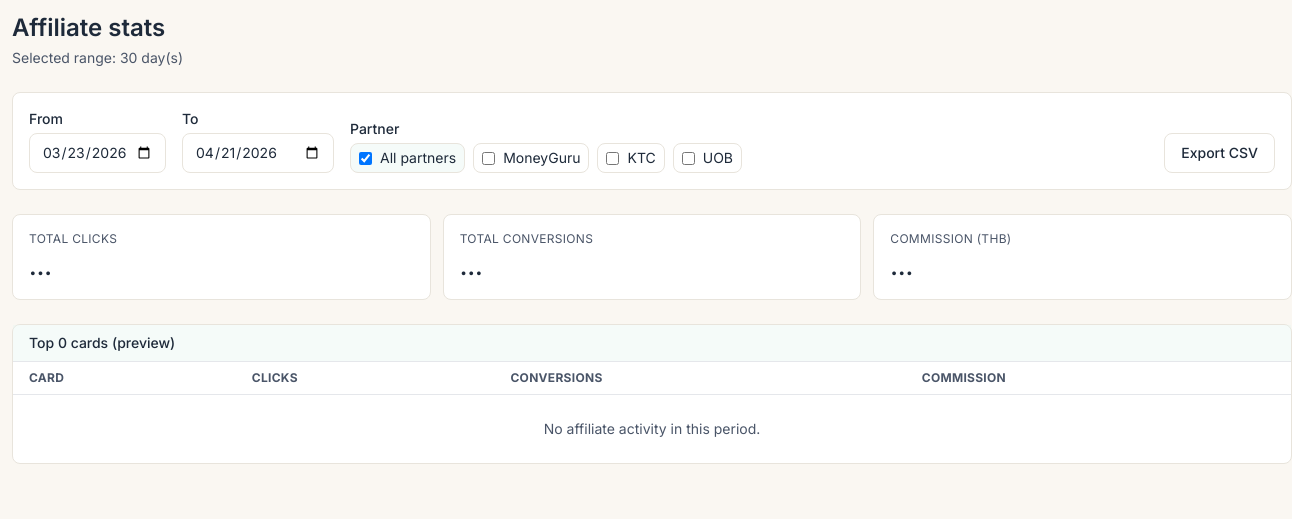
Test: AdminAffiliateClient › blocks CSV download when the date range exceeds 90 days
Type "2025-01-01" into the date field with test id "affiliate-from" at (98, 153), box [29, 133, 166, 173]
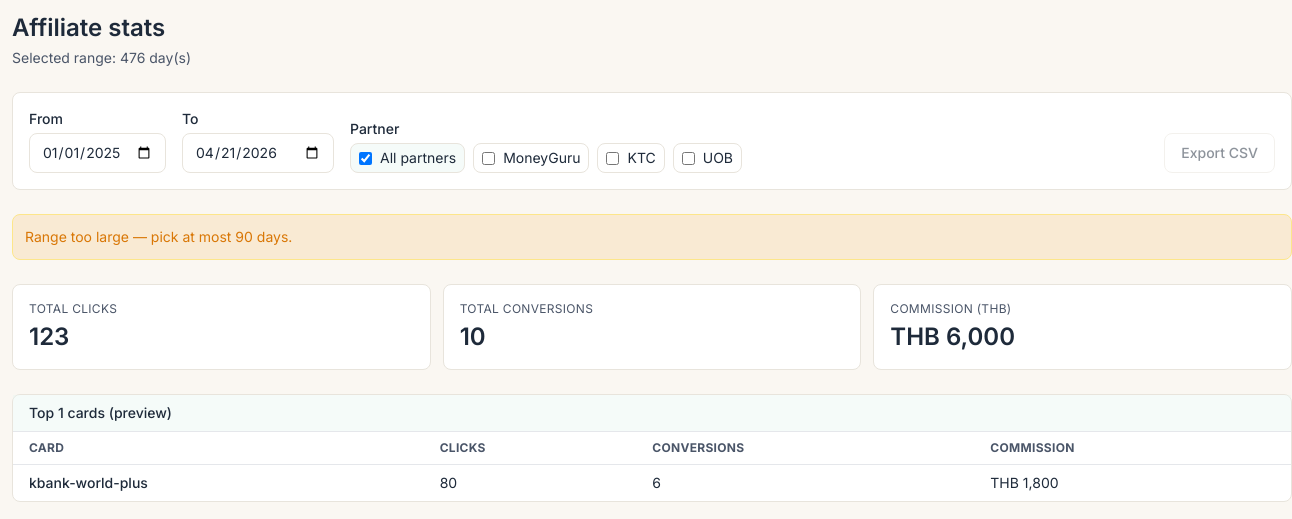
expect the message "Range too large — pick at most 90 days." is shown: met, box [12, 214, 1291, 260]
